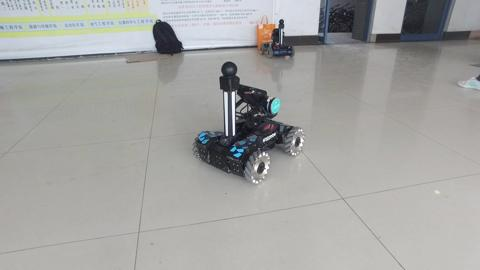bag: (150, 16, 184, 58), (254, 15, 277, 48)
chariot: (191, 60, 305, 185), (259, 18, 296, 60)
